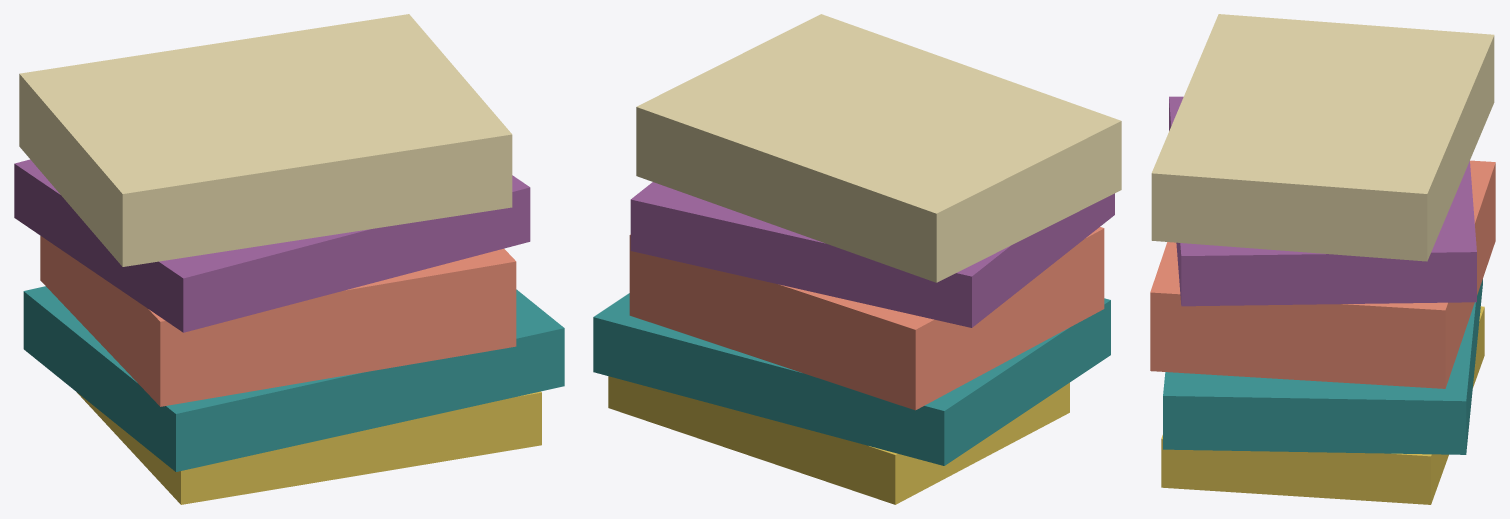
File: book_stack.glb
3 renders of one model, left to right at view 1: azimuth 30°, elevation 25°; view 2: azimuth 150°, elevation 25°; view 3: azimuth 270°, elevation 25°, orthographic. The views are drawn at different scales.
Visible parts, largest first — view 1: book_stack; view 2: book_stack; view 3: book_stack.
Boxes of the visible parts, x1,y1,x2,y2 form: book_stack: [14, 14, 564, 504]; book_stack: [593, 14, 1121, 504]; book_stack: [1150, 14, 1495, 504].
Bounding box in the file's own units: 0.3119 × 0.2257 × 0.2367.
